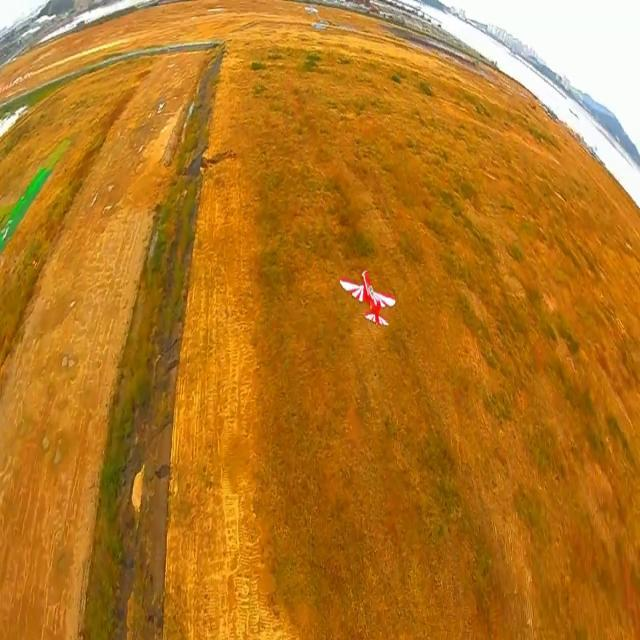iha: (336, 269, 394, 329)
